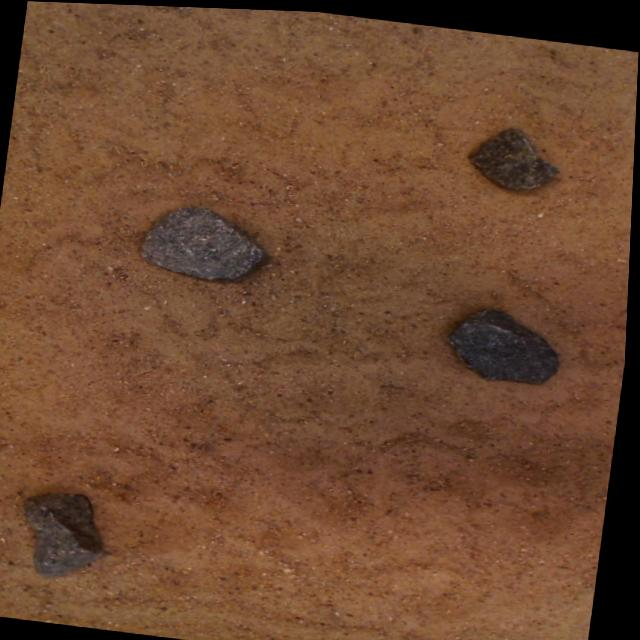rock: (143, 204, 265, 277), (451, 305, 561, 378), (29, 492, 106, 576), (470, 124, 559, 184)
